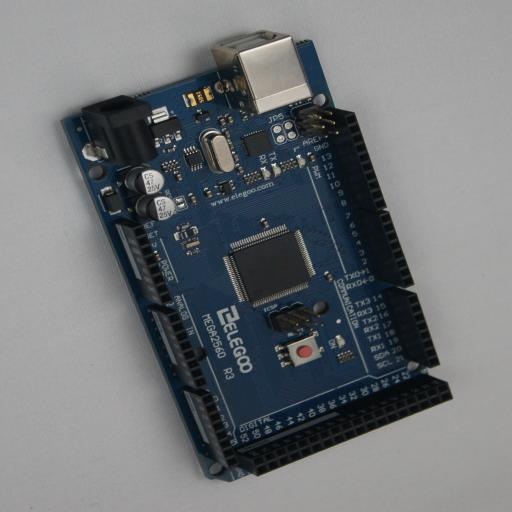Arduino Mega 2560 -Blue-: (60, 32, 453, 482)
